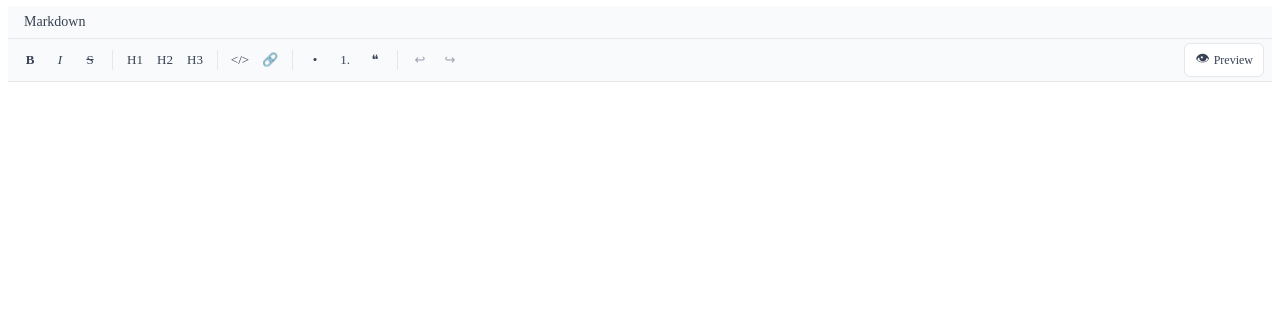
Test case: MarkdownEditor › 表示モード切り替え › プレビューモードで複合的なMarkdownが正しくレンダリングされる
Click the button with aria-label "プレビュー表示に切り替え" at (1224, 60), box [1184,43,1264,77]
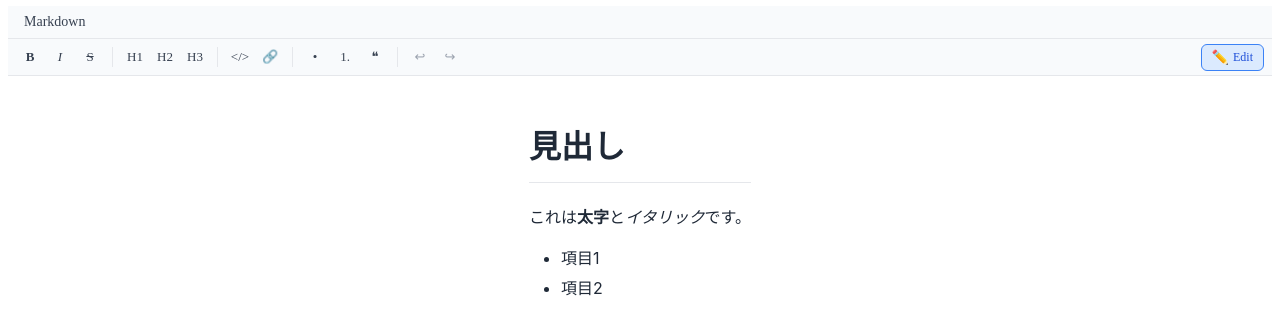
Expected: the heading "見出し" is shown, [529,121,751,183]
Expected: the text "太字" is shown, [577,207,609,227]
Expected: the text "イタリック" is shown, [625,207,704,227]
